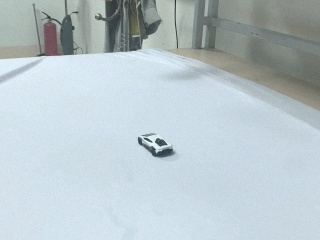toy_car: (138, 133, 173, 157)
